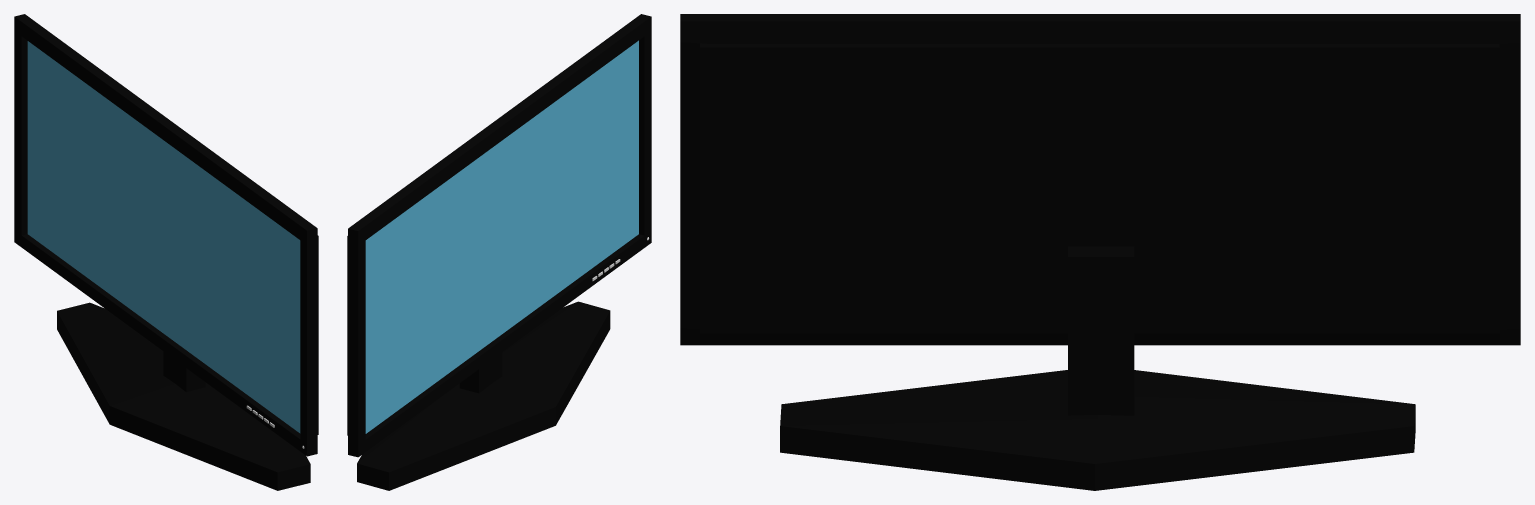
3 renders of one model, left to right at view 1: azimuth 30°, elevation 25°; view 2: azimuth 150°, elevation 25°; view 3: azimuth 270°, elevation 25°, orthographic. The views are drawn at different scales.
Visible parts, largest first — view 1: Куб.002, Куб.001, Cube, Куб; view 2: Куб.002, Куб.001, Cube, Куб; view 3: Куб.001, Cube, Куб.
Part boxes in pixels (<box>): Куб.002: <box>27,41,300,433</box>; Куб.001: <box>14,14,318,456</box>; Cube: <box>57,302,310,490</box>; Куб: <box>163,351,205,392</box>; Куб.002: <box>365,40,638,433</box>; Куб.001: <box>347,14,651,457</box>; Cube: <box>357,301,610,490</box>; Куб: <box>459,352,502,393</box>; Куб.001: <box>680,14,1520,345</box>; Cube: <box>780,370,1415,490</box>; Куб: <box>1068,246,1134,415</box>.
Bounding box in the file's own units: 19.59 × 37.54 × 67.99.
